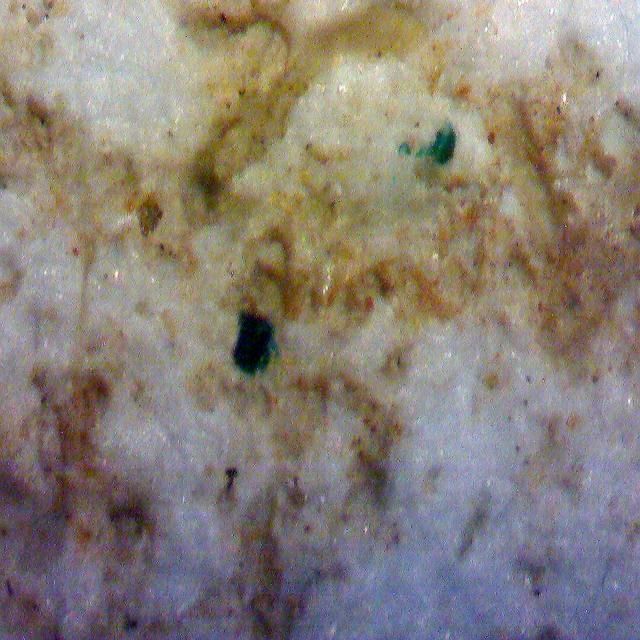microplastic: (393, 120, 462, 183)
